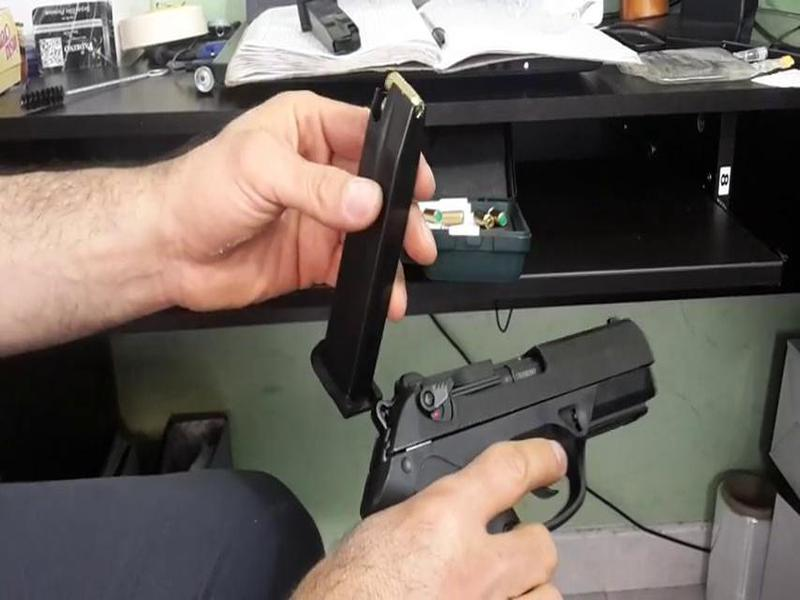Pistola: (356, 293, 672, 542)
